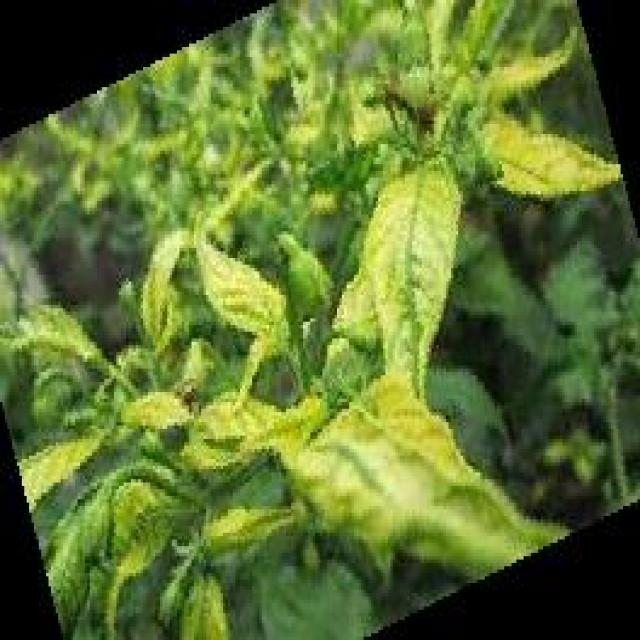Rust: (362, 174, 462, 390)
